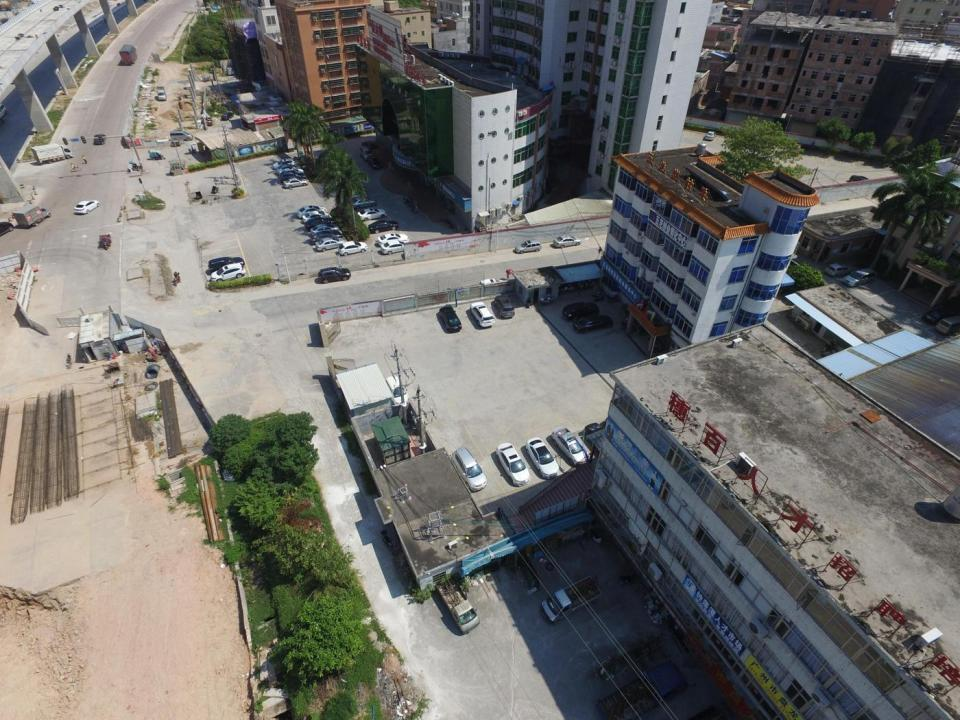car: (496, 443, 531, 486), (552, 426, 588, 466), (525, 437, 560, 478), (586, 422, 610, 456), (573, 314, 613, 334), (210, 262, 245, 283), (562, 302, 600, 320), (439, 306, 462, 332), (209, 256, 244, 273), (318, 267, 351, 284), (338, 240, 368, 257), (493, 294, 514, 318), (315, 236, 345, 252), (380, 240, 409, 255), (377, 233, 407, 247), (296, 205, 326, 219), (922, 308, 948, 324), (310, 231, 342, 244), (368, 220, 399, 233), (514, 239, 542, 253), (74, 199, 100, 214), (304, 217, 334, 230), (356, 208, 386, 221), (553, 235, 582, 248), (824, 263, 850, 277), (302, 210, 329, 222), (310, 224, 339, 235), (351, 197, 377, 209), (280, 170, 306, 181), (283, 177, 308, 188), (343, 190, 366, 201), (273, 158, 295, 169), (366, 154, 381, 169), (276, 164, 300, 173), (360, 146, 372, 158), (93, 134, 106, 145), (221, 112, 233, 121), (0, 0, 13, 8)
van: (599, 660, 687, 718), (540, 575, 602, 624), (435, 576, 480, 635), (452, 447, 487, 491), (30, 143, 74, 164), (12, 205, 50, 229), (470, 302, 495, 328), (843, 268, 876, 286), (936, 315, 960, 334), (118, 44, 136, 66), (479, 277, 505, 288), (170, 130, 193, 140), (156, 86, 168, 101), (226, 66, 233, 76)
